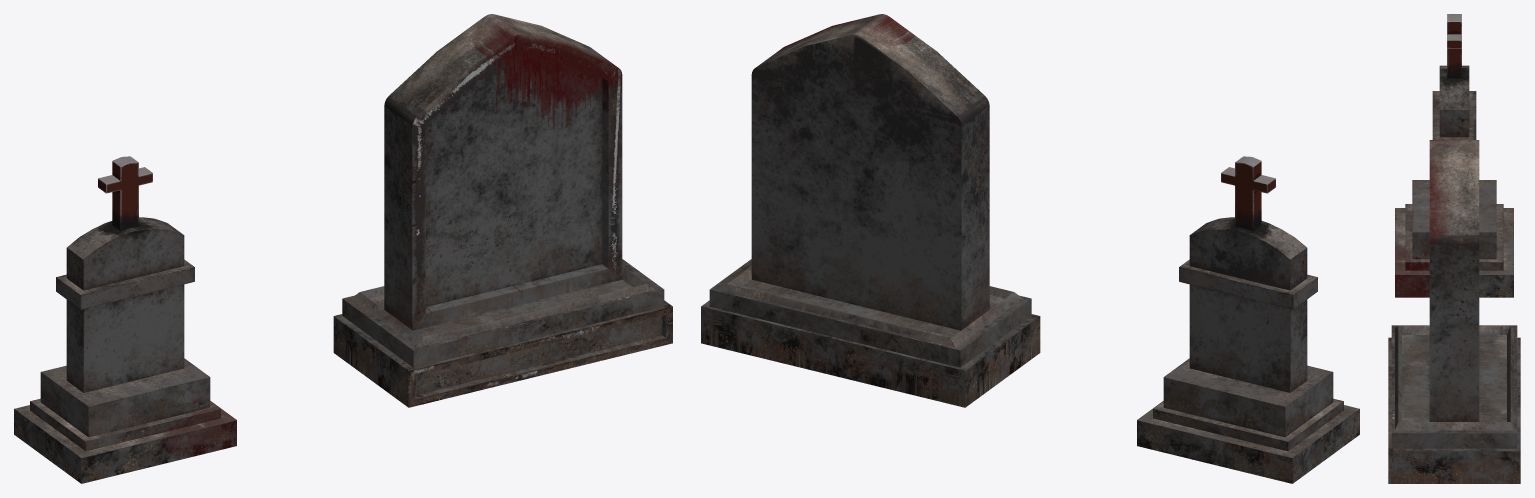
File: graves.glb
The picture shows the model from 3 angles, left to right: view 1: azimuth 30°, elevation 25°; view 2: azimuth 150°, elevation 25°; view 3: azimuth 270°, elevation 25°; orthographic projection. The views are drawn at different scales.
Visible parts, largest first — view 1: pCube3, polySurface4; view 2: pCube3, polySurface4; view 3: pCube3, polySurface4.
Boxes of the visible parts, x1,y1,x2,y2 form: pCube3: (333, 14, 672, 407); polySurface4: (14, 156, 236, 483); pCube3: (701, 14, 1040, 407); polySurface4: (1137, 156, 1359, 483); pCube3: (1388, 140, 1520, 483); polySurface4: (1395, 14, 1513, 297).
Bounding box in the file's own units: 86.62 × 45.57 × 19.15.
1 material, 1 textured.
